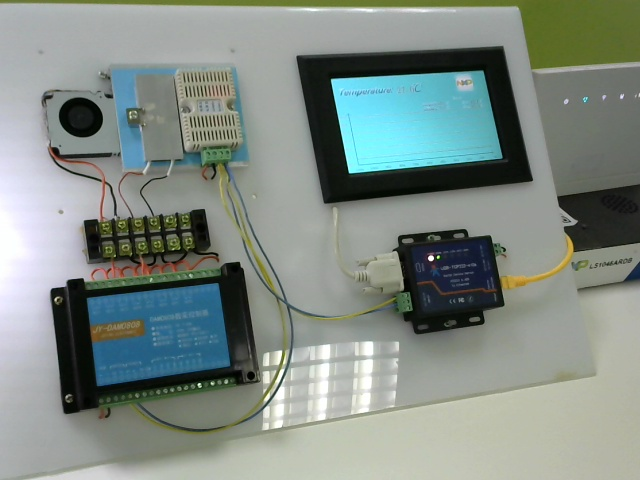fan: (38, 79, 115, 161)
heater: (131, 71, 179, 179)
modbus bridge: (393, 228, 511, 349)
relay: (43, 266, 262, 415)
termperature: (179, 68, 257, 166)
